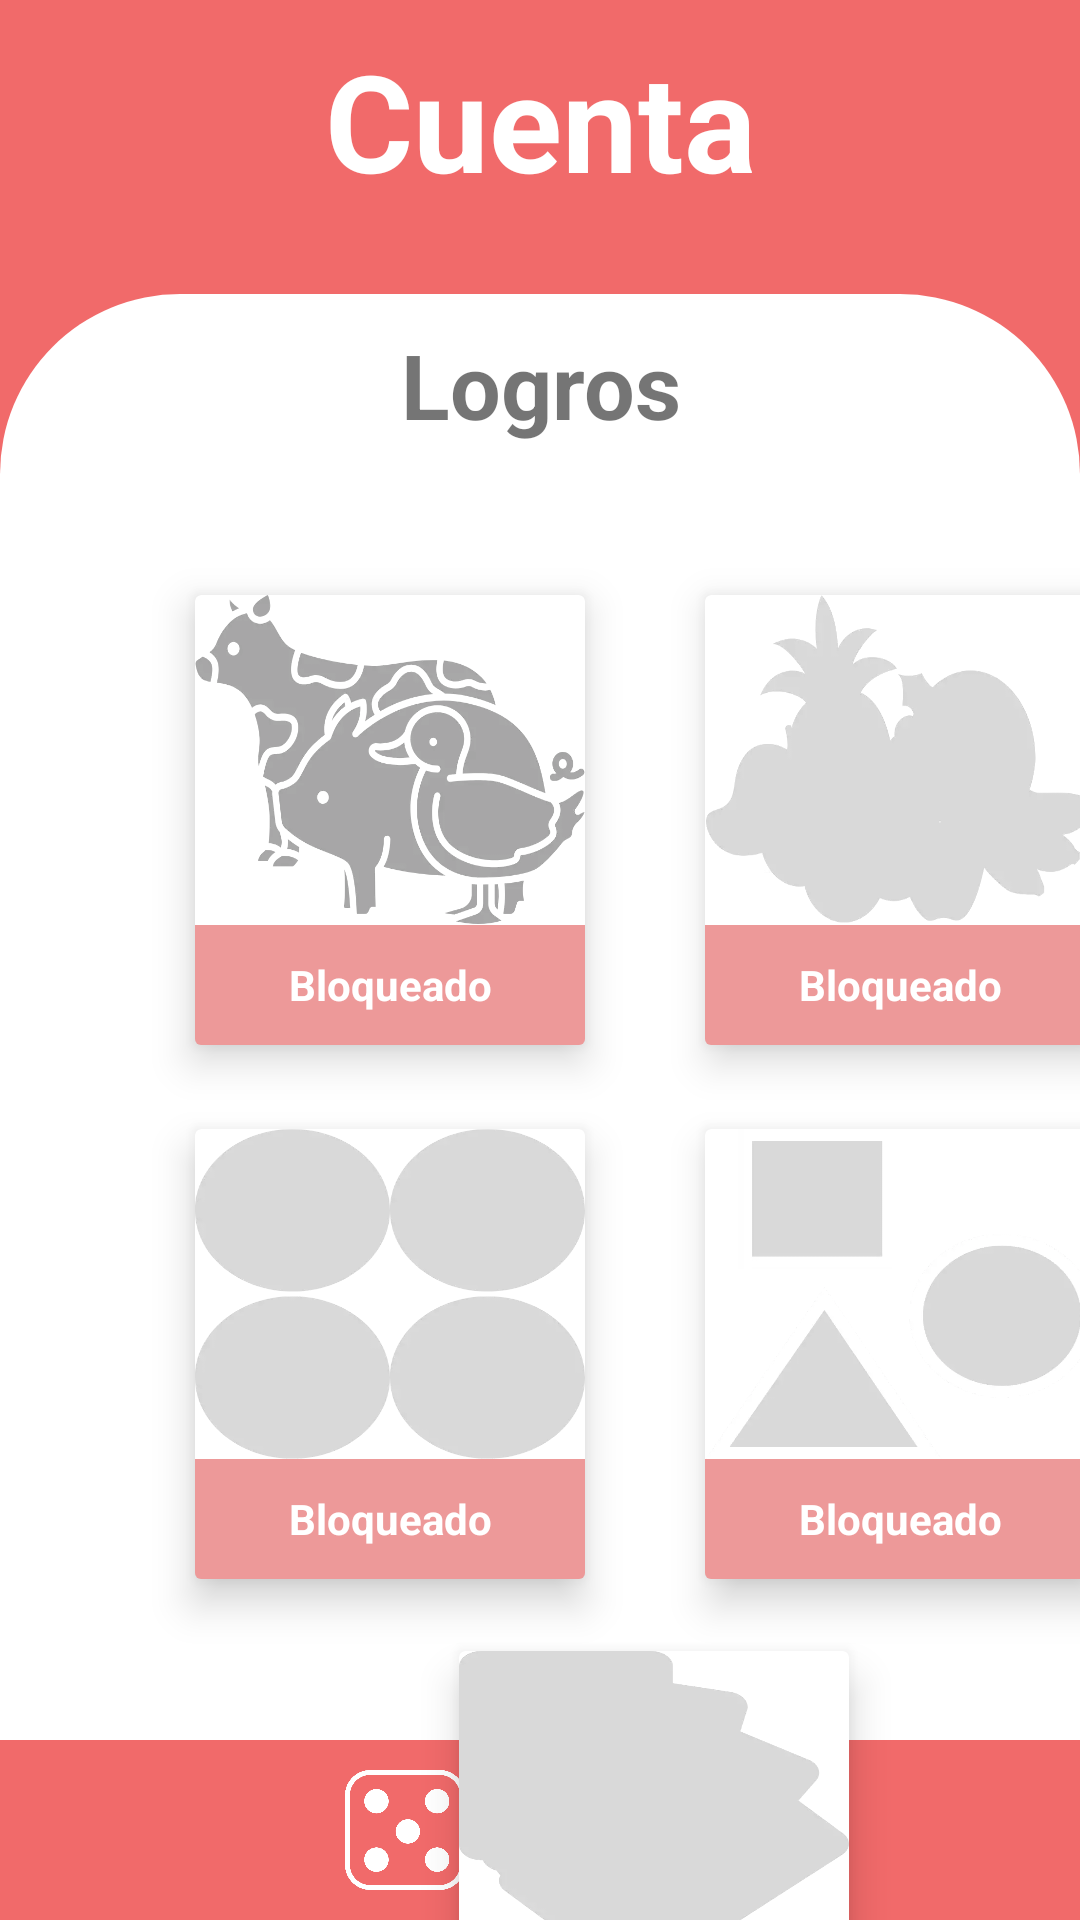

Where icons sit on this 1080*1920 app screen, as (x1, y1, x2, y2):
juegounselec: (345, 1770, 465, 1890)
